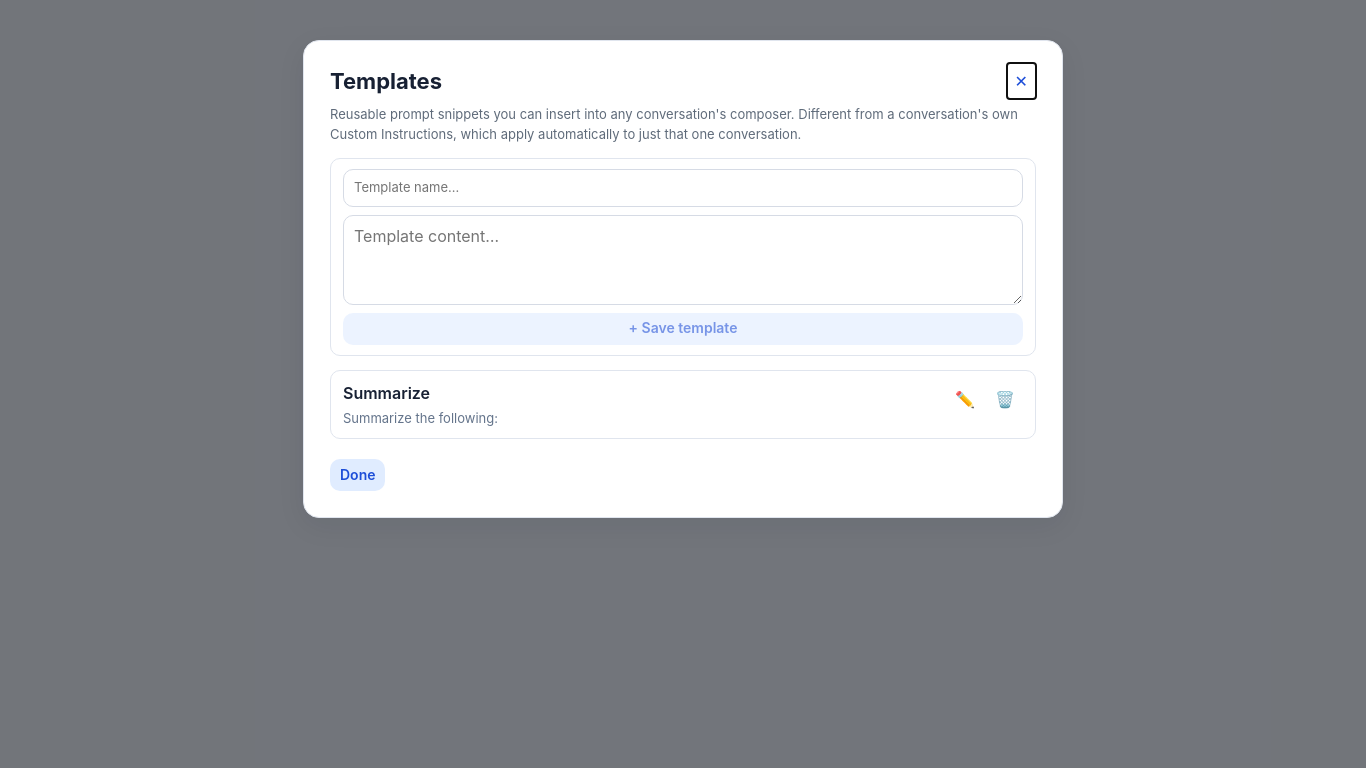
Test case: Templates › edits a template's name and content via PATCH
Expected: the text "Summarize" is shown, [343,382,430,402]
Click the button named "Rename or edit Summarize": click(965, 398) [947,380,983,416]
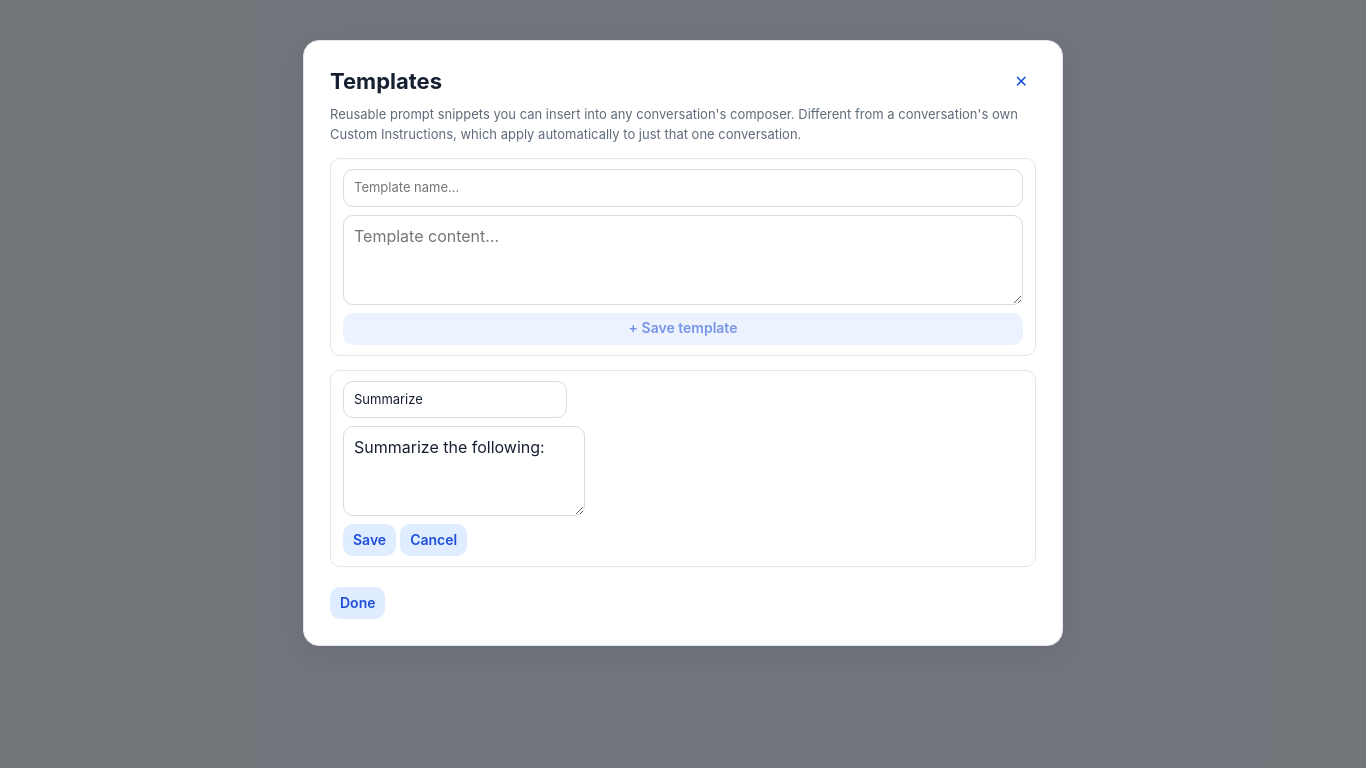
Replace the text in the field named "Template name" with "Summarize (short)": (455, 399) [343,380,567,418]
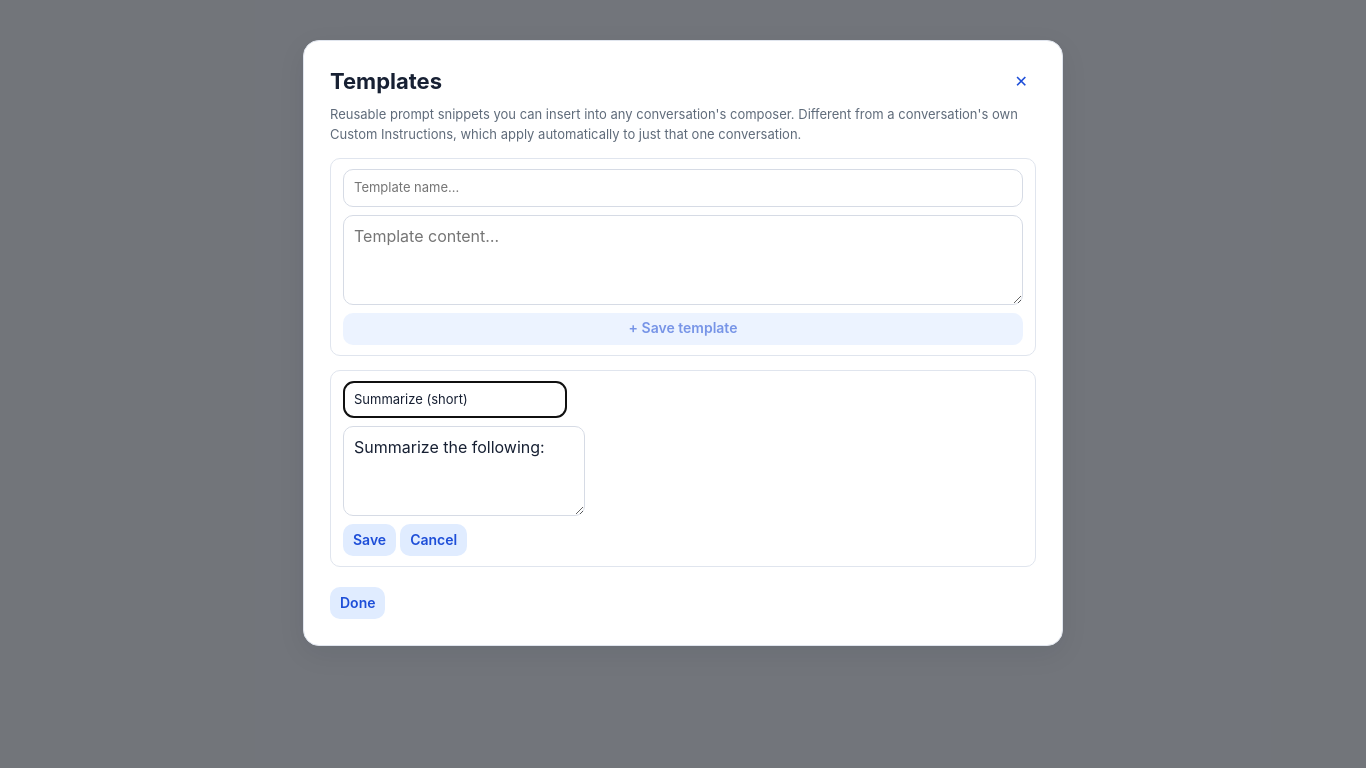
Click the button "Save": click(370, 540) [343,524,396,556]
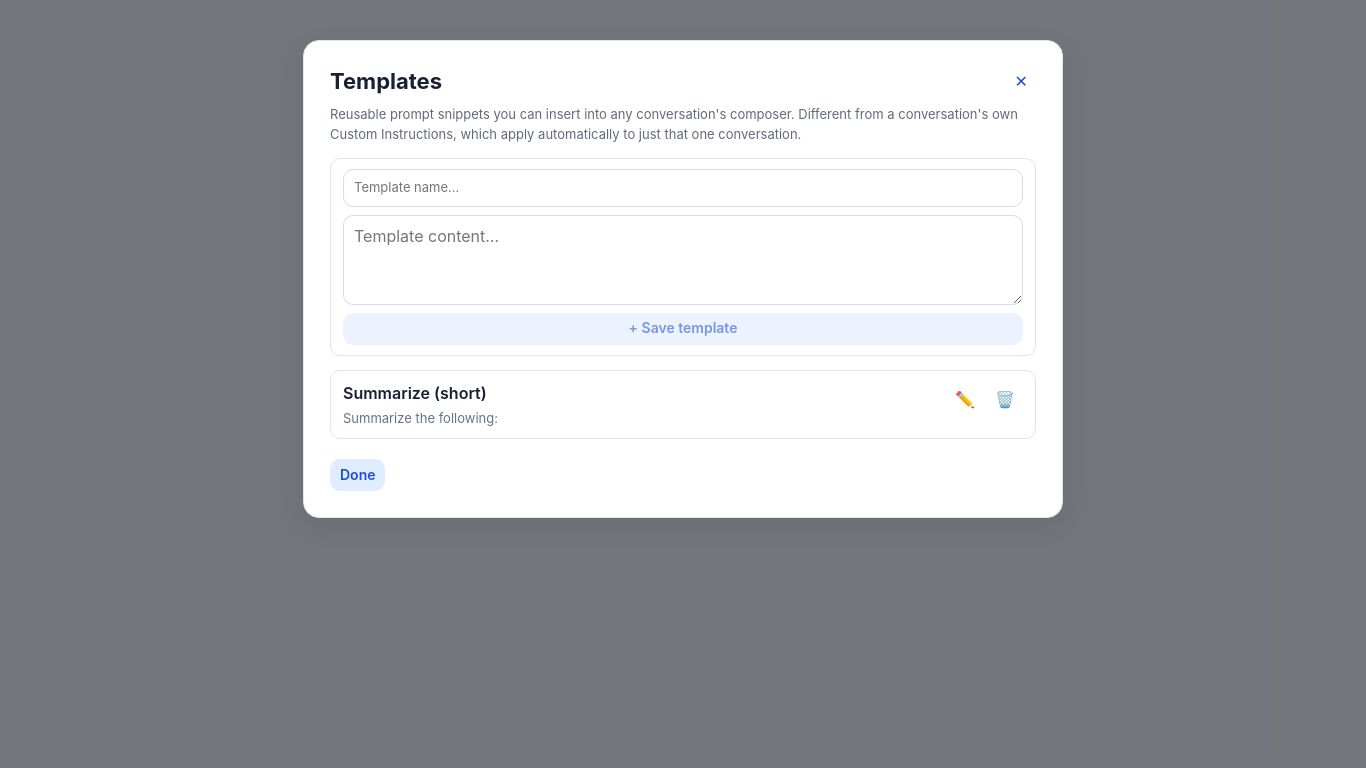
Expected: the text "Summarize (short)" is shown, [343,382,487,402]
